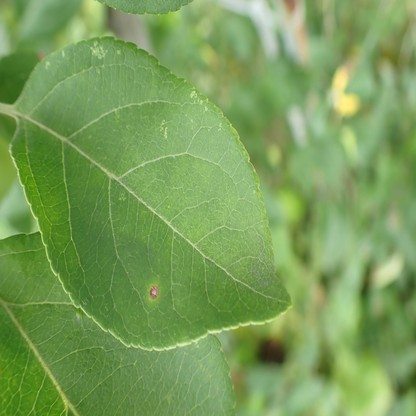frogeye: (150, 285, 160, 300)
